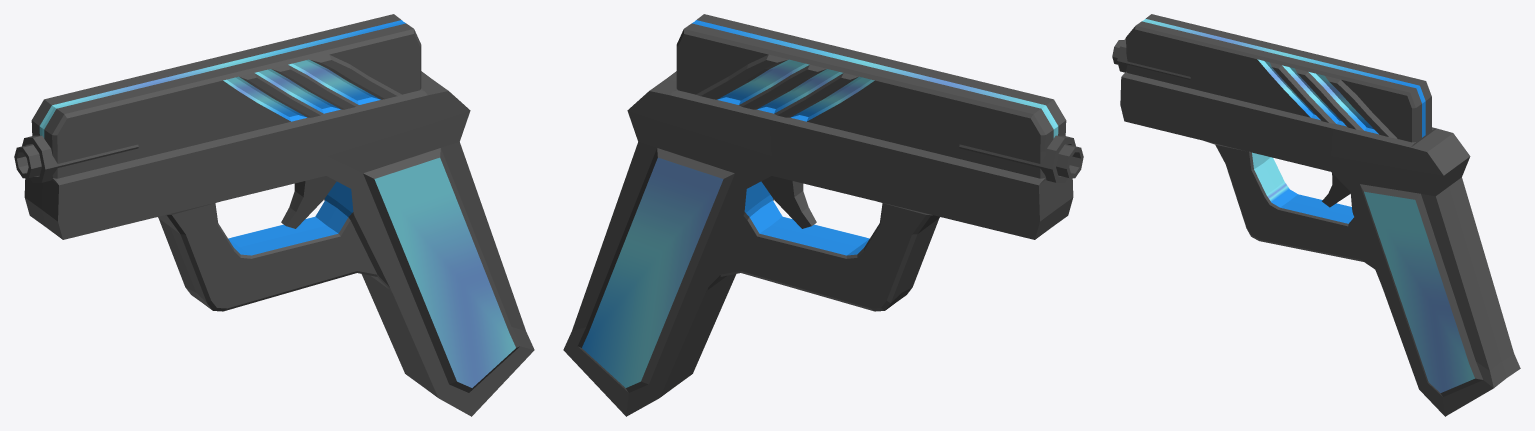
The model's file is wpn_elite.fbx.
The picture shows the model from 3 angles, left to right: view 1: azimuth 30°, elevation 25°; view 2: azimuth 150°, elevation 25°; view 3: azimuth 330°, elevation 25°; orthographic projection. The views are drawn at different scales.
Visible parts, largest first — view 1: wpn_elite; view 2: wpn_elite; view 3: wpn_elite.
Boxes of the visible parts, left/top/right/bottom form: wpn_elite: left=14, top=14, right=534, bottom=416; wpn_elite: left=563, top=14, right=1083, bottom=416; wpn_elite: left=1112, top=14, right=1520, bottom=416.
Bounding box in the file's own units: 26.93 × 20.59 × 3.8.
